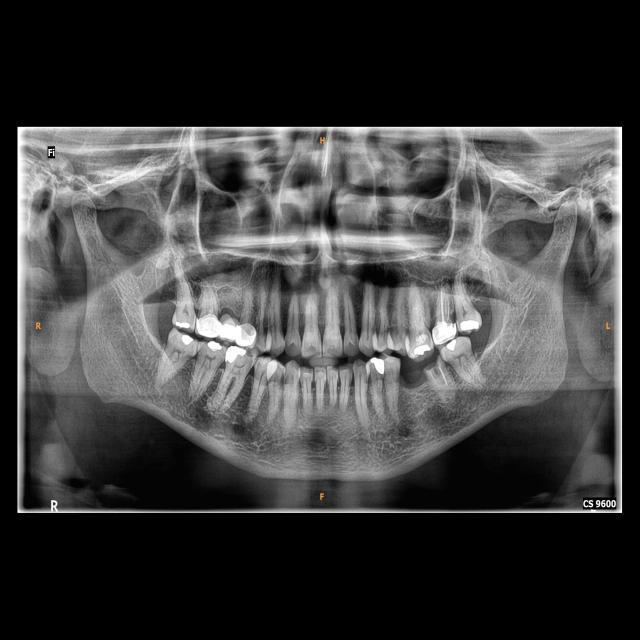dentin-curugu: (424, 358, 443, 376), (284, 341, 298, 355), (306, 344, 317, 354)
dolgu: (412, 333, 434, 358), (367, 352, 387, 377), (225, 346, 249, 364), (173, 316, 195, 334), (460, 314, 478, 334), (176, 332, 196, 349), (204, 340, 223, 355), (446, 337, 462, 353)
kanal-tedavisi: (437, 281, 451, 324), (439, 369, 450, 389)
kaplama: (196, 310, 222, 338), (434, 320, 456, 345), (237, 322, 256, 344)
kopru: (222, 308, 238, 345)
